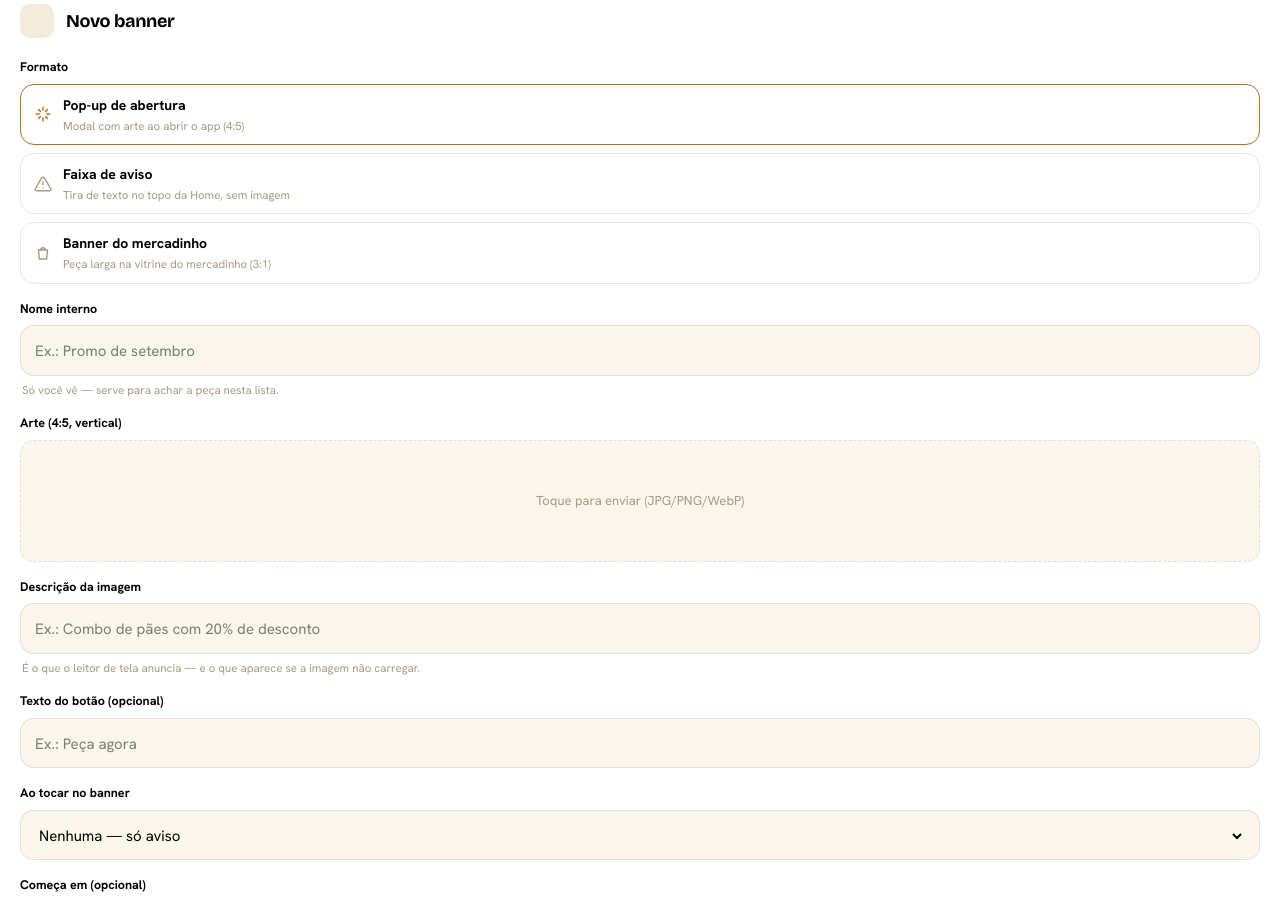
Test: BannerForm › mercadinho pede arte 3:1
Step 1. Click the text "Banner do mercadinho" → (135, 243), box left=63, top=234, right=207, bottom=252
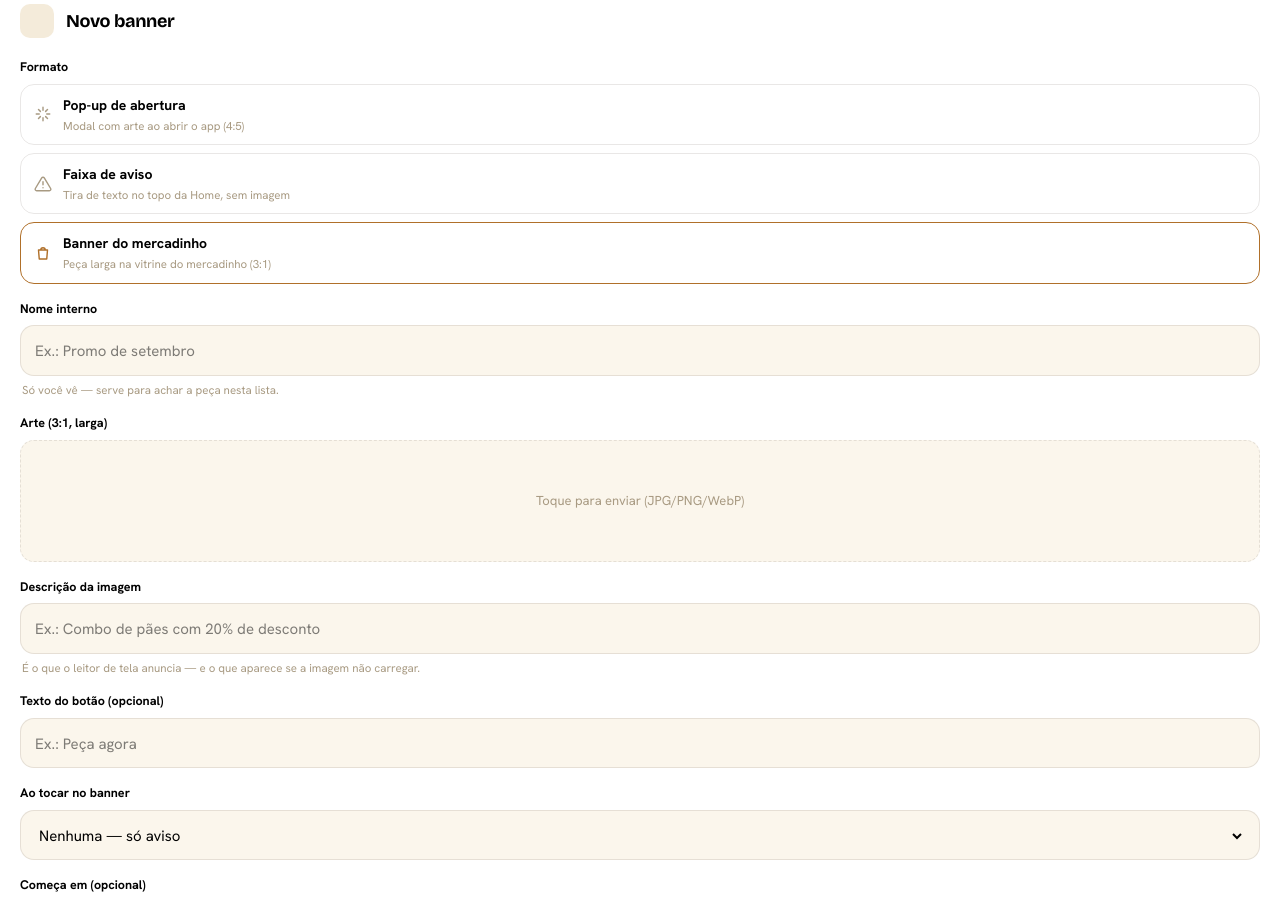
Expected: the text "Arte (3:1, larga)" is shown, left=20, top=414, right=107, bottom=431
